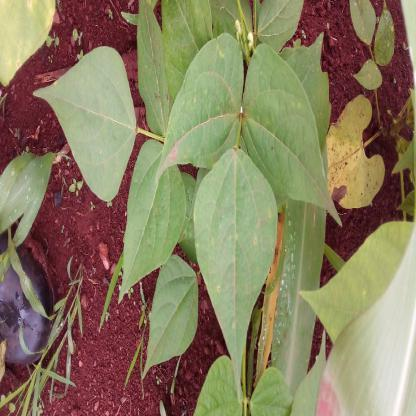Beans_Rust: (195, 157, 274, 392), (244, 38, 344, 220), (160, 26, 242, 164)
